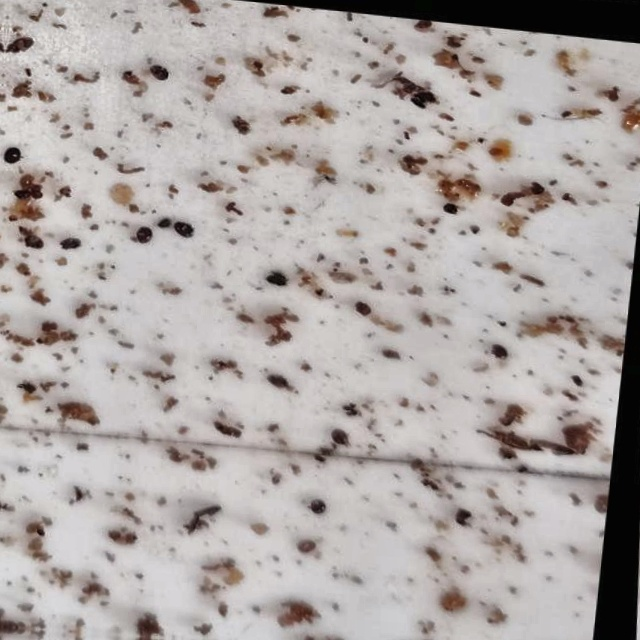varroa: (5, 35, 38, 56), (265, 370, 298, 390), (149, 63, 177, 84), (175, 219, 199, 241), (60, 236, 87, 255), (136, 224, 159, 245), (334, 425, 357, 446), (492, 340, 516, 360), (357, 297, 379, 317), (24, 234, 46, 253), (311, 495, 333, 514), (410, 17, 435, 29)
